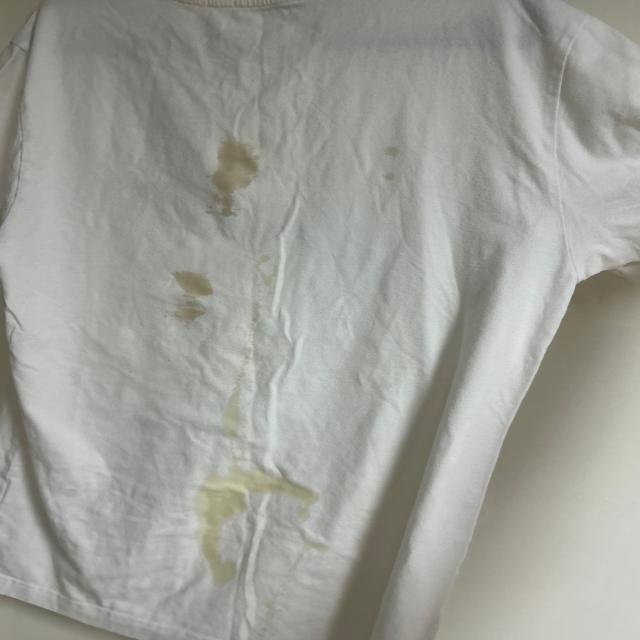stain: (200, 458, 322, 505), (189, 498, 251, 588), (203, 144, 268, 225), (170, 264, 223, 320), (355, 132, 403, 186), (245, 249, 283, 296), (219, 378, 242, 434)
